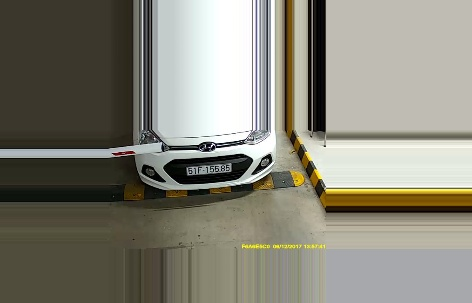plate: (183, 158, 238, 175)
